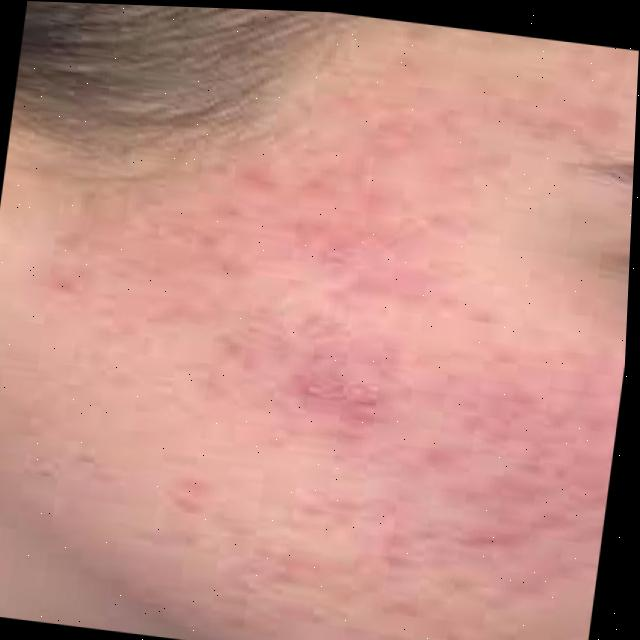Rosacea: (101, 111, 596, 640)
